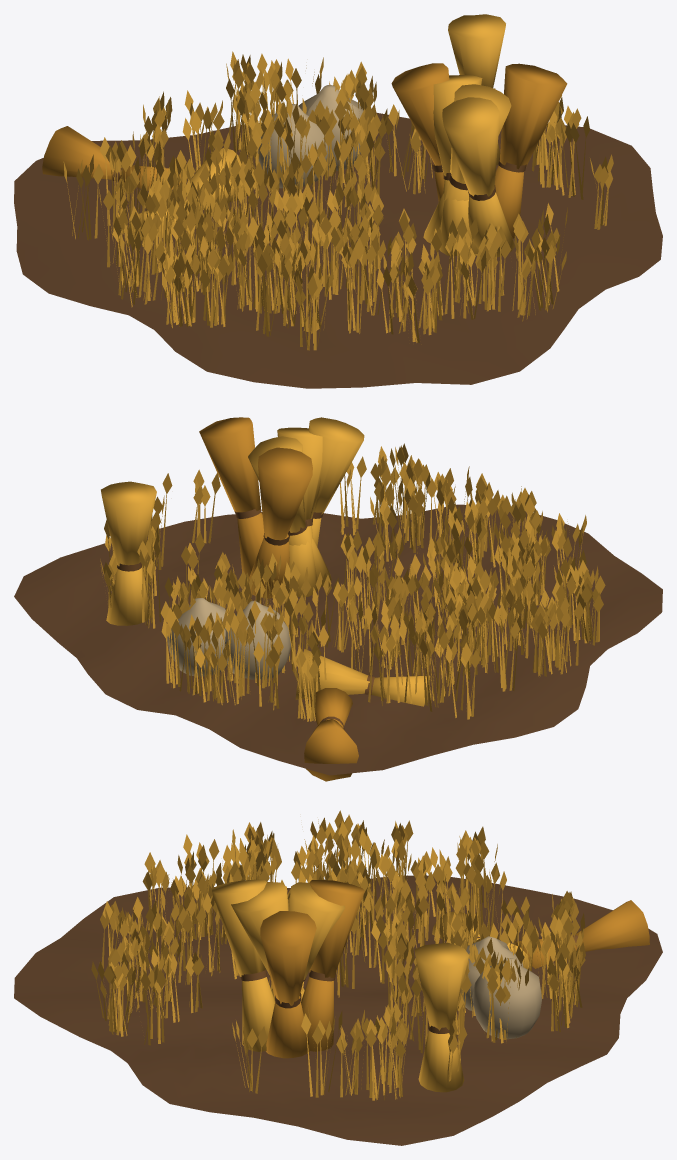
Rendered from resource_harvest_grain.glb.
3 renders of one model, top to bottom at view 1: azimuth 30°, elevation 25°; view 2: azimuth 150°, elevation 25°; view 3: azimuth 270°, elevation 25°, orthographic. The views are drawn at different scales.
Visible parts, largest first — view 1: Soil, GrainField, Sheaf, Sheaf.004, Sheaf.007, Sheaf.001, Sheaf.006, Sheaf.003, Sheaf.002, Sack, Sack.001, Sheaf.005; view 2: Soil, GrainField, Sheaf.007, Sheaf, Sheaf.001, Sheaf.006, Sheaf.004, Sheaf.005, Sheaf.002, Sack, Sack.001, Sheaf.003; view 3: Soil, GrainField, Sheaf, Sheaf.007, Sheaf.004, Sheaf.001, Sack.001, Sheaf.006, Sheaf.002, Sheaf.003, Sack, Sheaf.005.
Boxes of the visible parts, box(x1,y1,x2,y2) form: Soil: box(14, 112, 662, 388); GrainField: box(63, 51, 613, 350); Sheaf: box(495, 63, 567, 238); Sheaf.004: box(442, 97, 514, 257); Sheaf.007: box(448, 14, 505, 165); Sheaf.001: box(391, 63, 449, 201); Sheaf.006: box(42, 126, 187, 190); Sheaf.003: box(433, 75, 482, 255); Sheaf.002: box(423, 84, 511, 243); Sack: box(257, 104, 329, 188); Sack.001: box(298, 85, 363, 170); Sheaf.005: box(128, 148, 253, 238); Soil: box(14, 504, 662, 775); GrainField: box(100, 443, 605, 721); Sheaf.007: box(101, 481, 156, 625); Sheaf: box(199, 417, 263, 577); Sheaf.001: box(249, 447, 312, 598); Sheaf.006: box(304, 688, 358, 781); Sheaf.004: box(308, 417, 364, 546); Sheaf.005: box(295, 649, 430, 706); Sheaf.002: box(277, 427, 322, 597); Sack: box(225, 600, 290, 679); Sack.001: box(167, 598, 227, 676); Sheaf.003: box(248, 436, 331, 586); Soil: box(14, 875, 662, 1145); GrainField: box(91, 810, 585, 1100); Sheaf: box(260, 911, 316, 1058); Sheaf.007: box(414, 942, 469, 1092); Sheaf.004: box(212, 879, 274, 1051); Sheaf.001: box(301, 880, 364, 1051); Sack.001: box(472, 958, 541, 1039); Sheaf.006: box(514, 900, 649, 968); Sheaf.002: box(231, 882, 304, 1001); Sheaf.003: box(271, 882, 345, 1001); Sack: box(460, 936, 523, 1010); Sheaf.005: box(432, 911, 529, 969).
Bounding box in the file's own units: 5.45 × 1.61 × 5.5.
